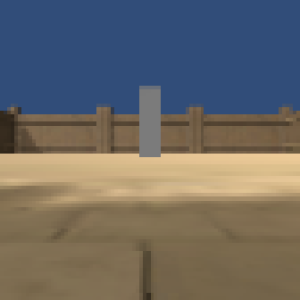wall: (138, 84, 161, 157)
